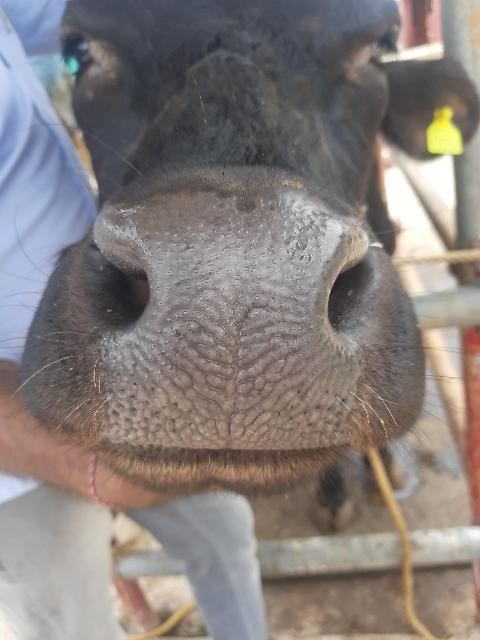Muzzle: (142, 201, 328, 449)
